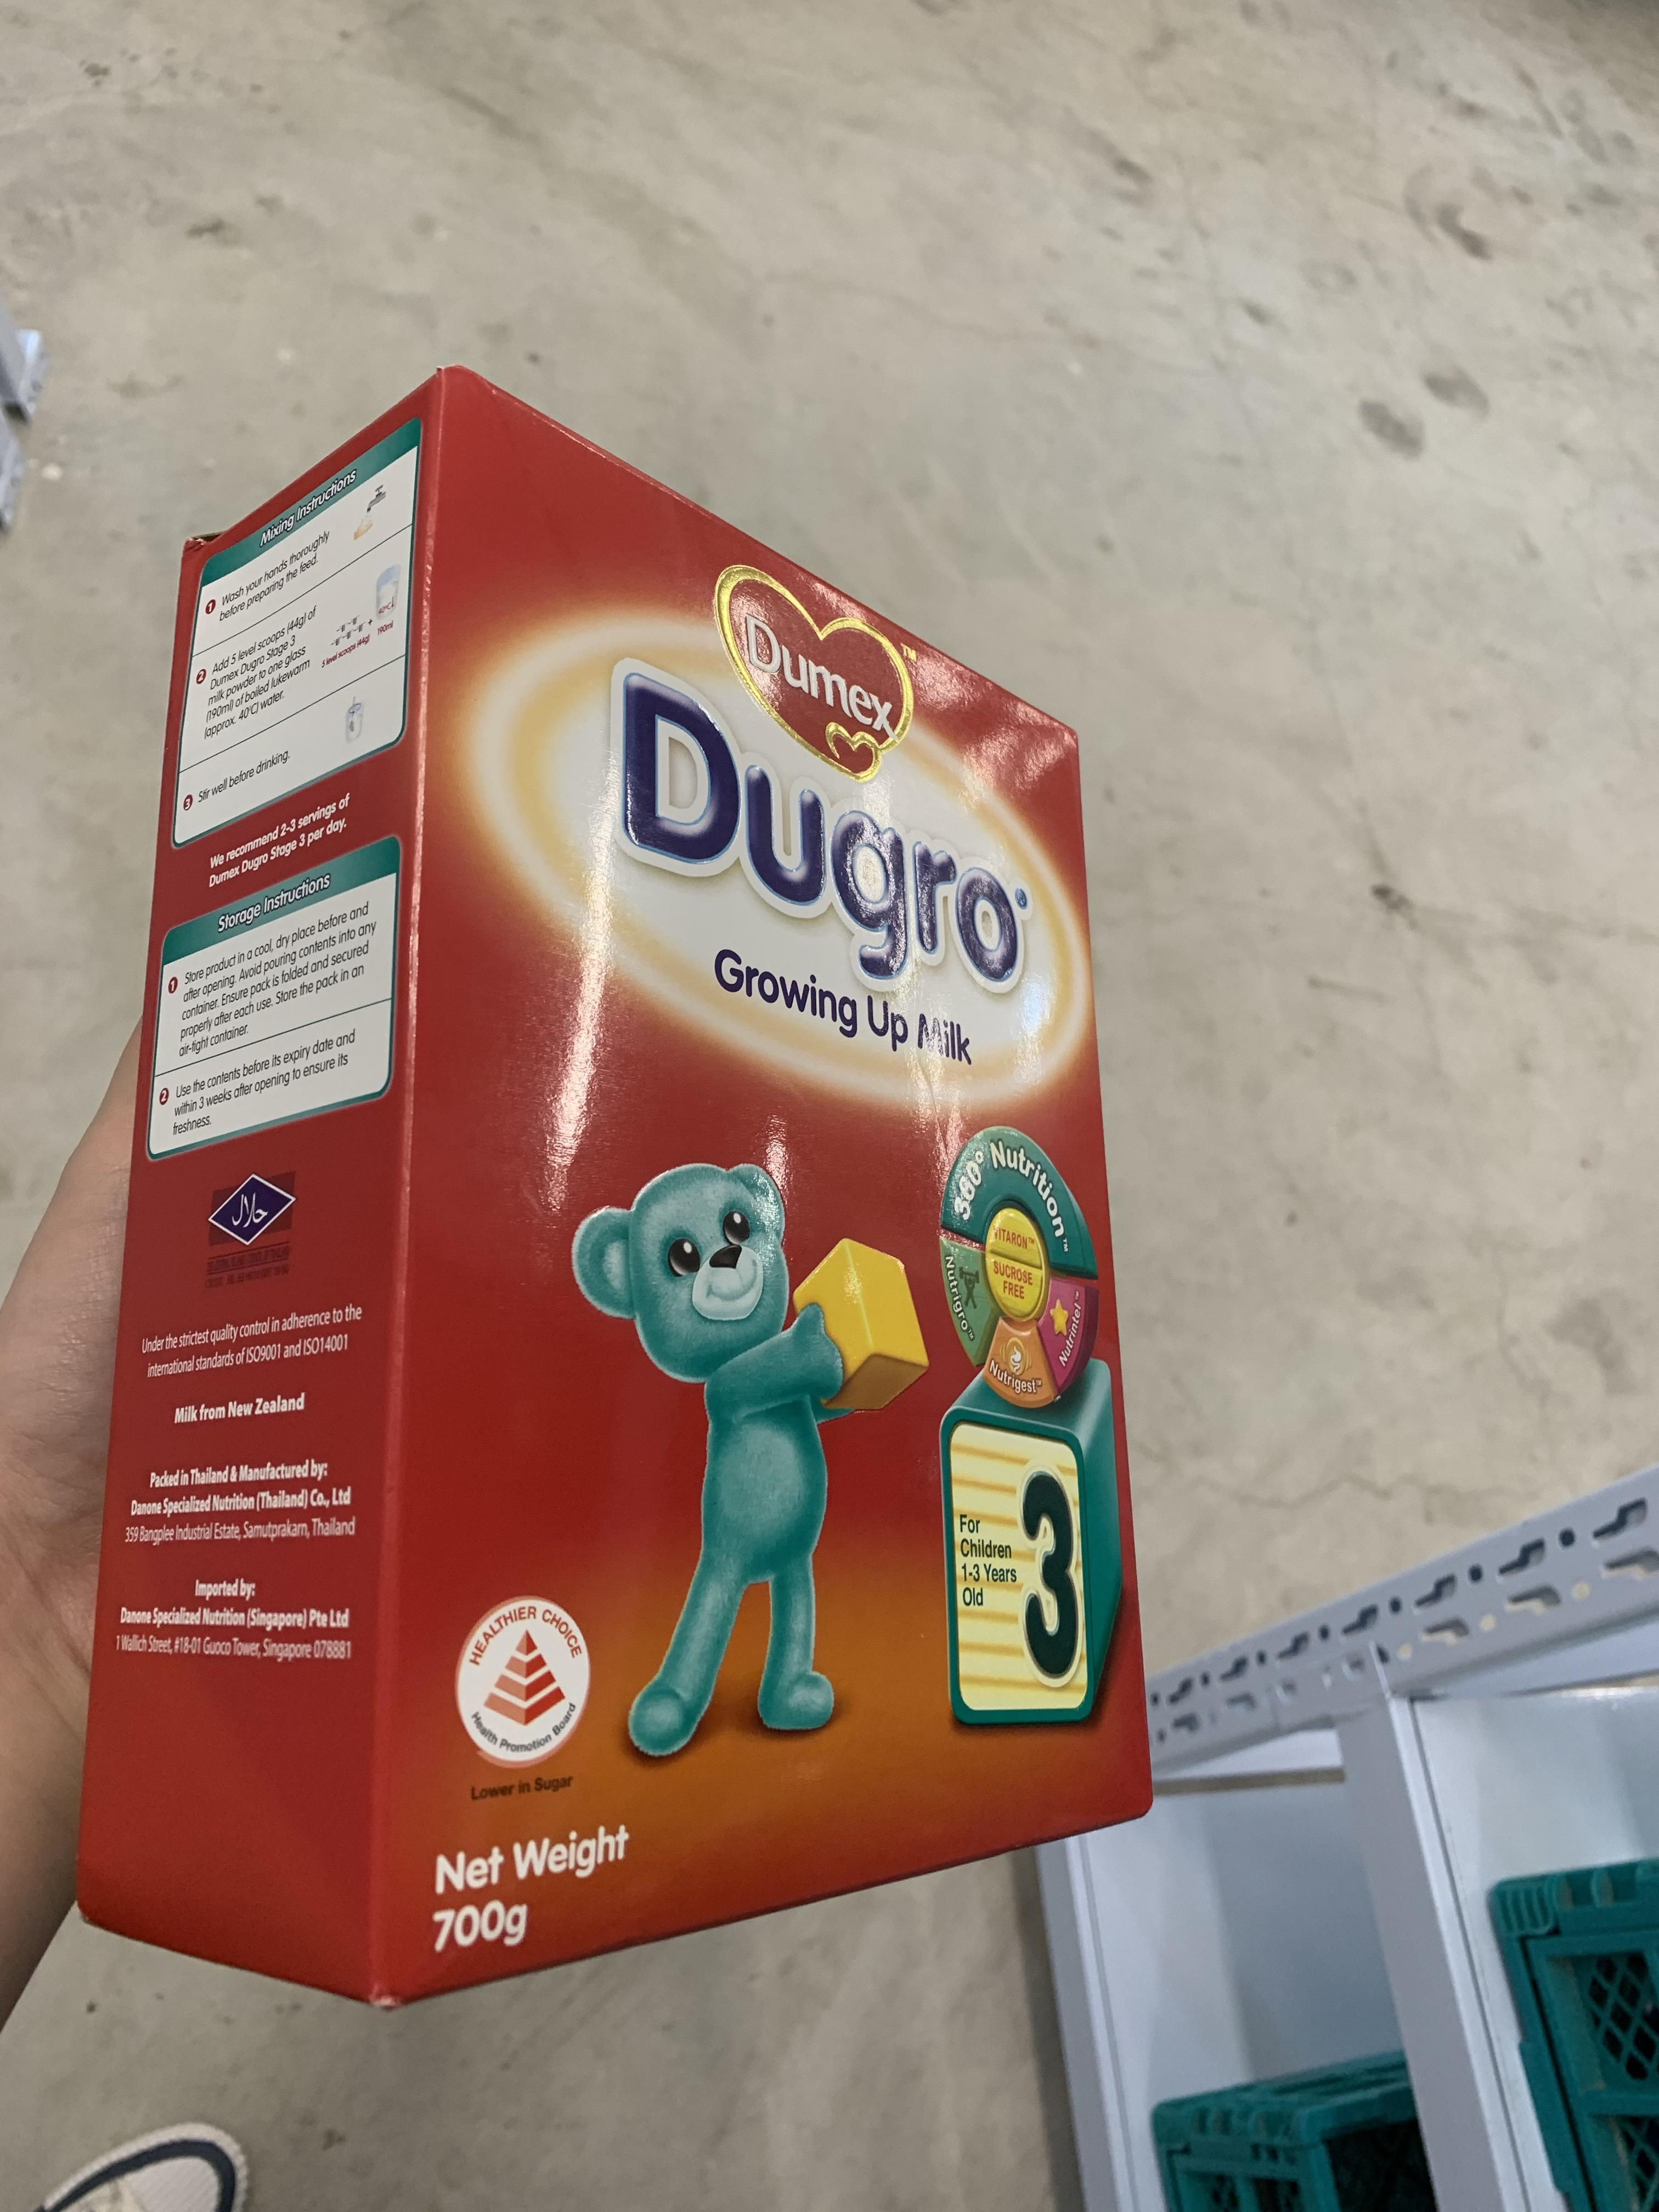object_name: (301, 428, 1086, 1958)
